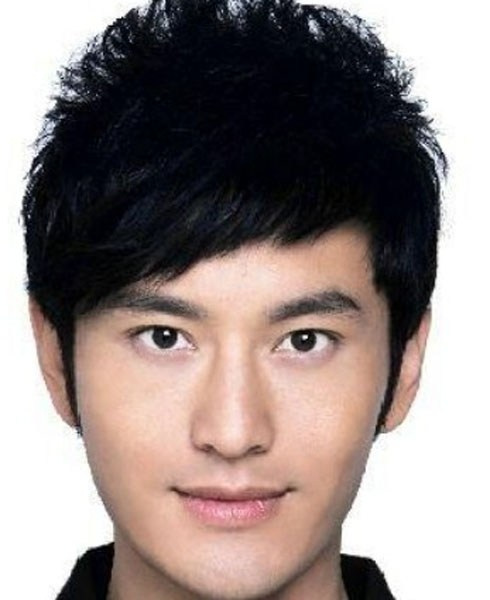unmask: (59, 214, 379, 586)
